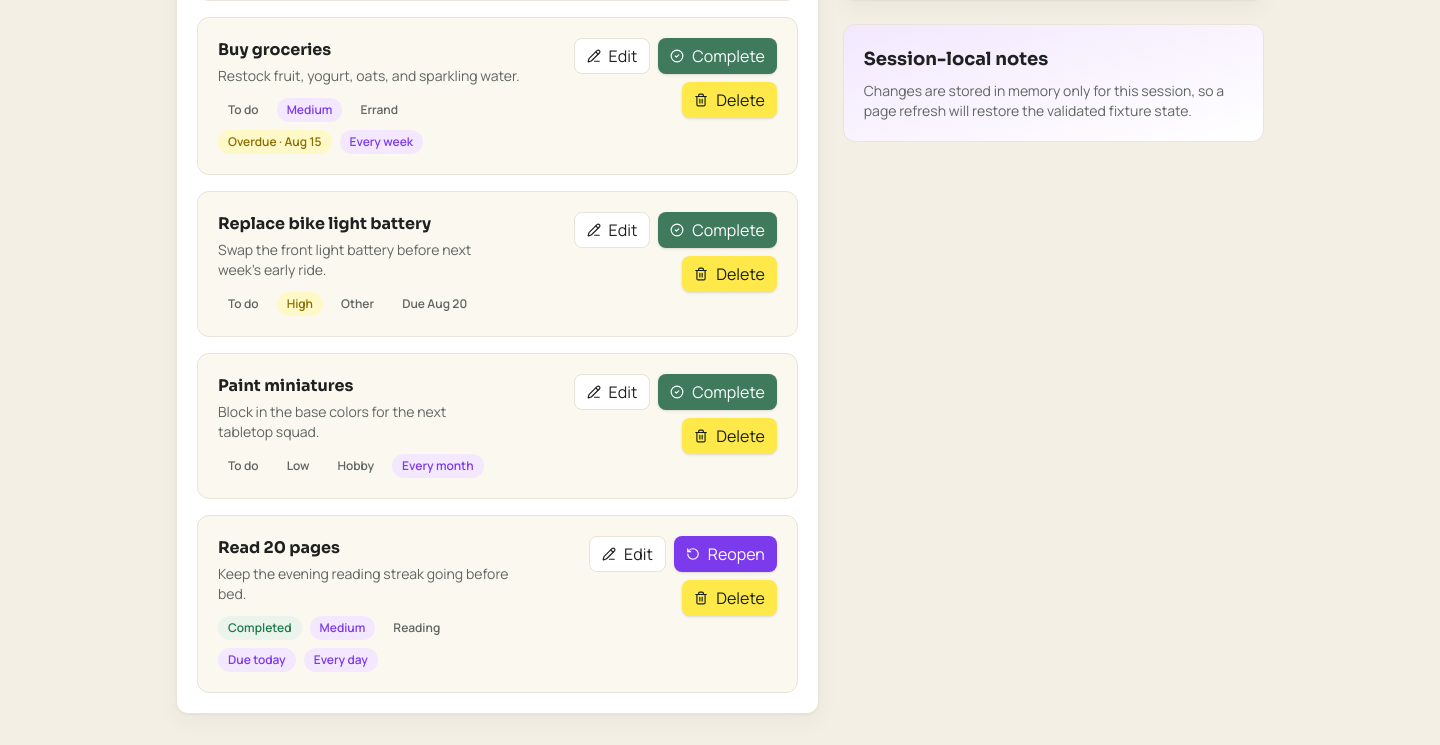
Test case: TasksPage — acting on a task › deletes a task off the list and out of the store
(page scrolled)
Click the button with aria-label "Delete Paint miniatures".
click(730, 436)  # box [682,418,777,454]
(page scrolled)
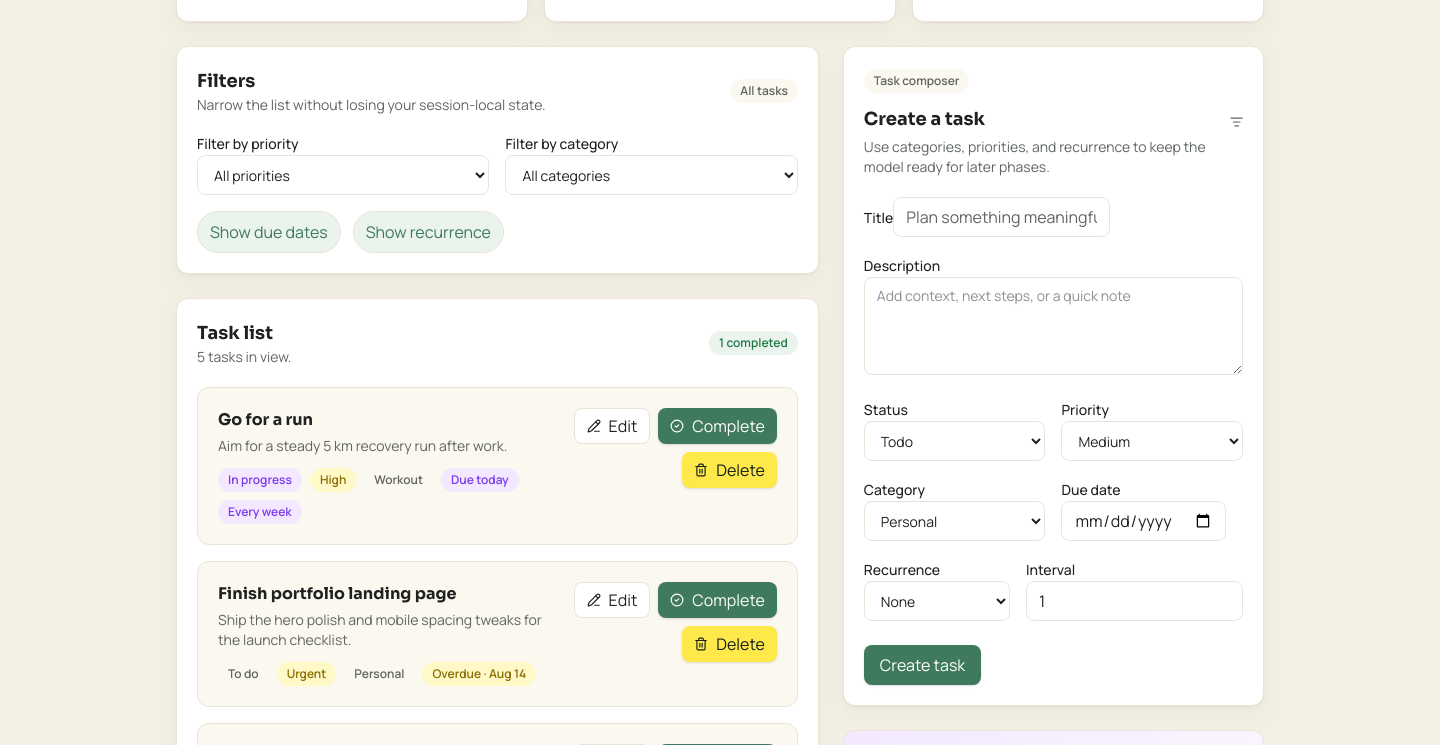
Now the text "5 tasks in view." is shown, box [197,347,291,367]
